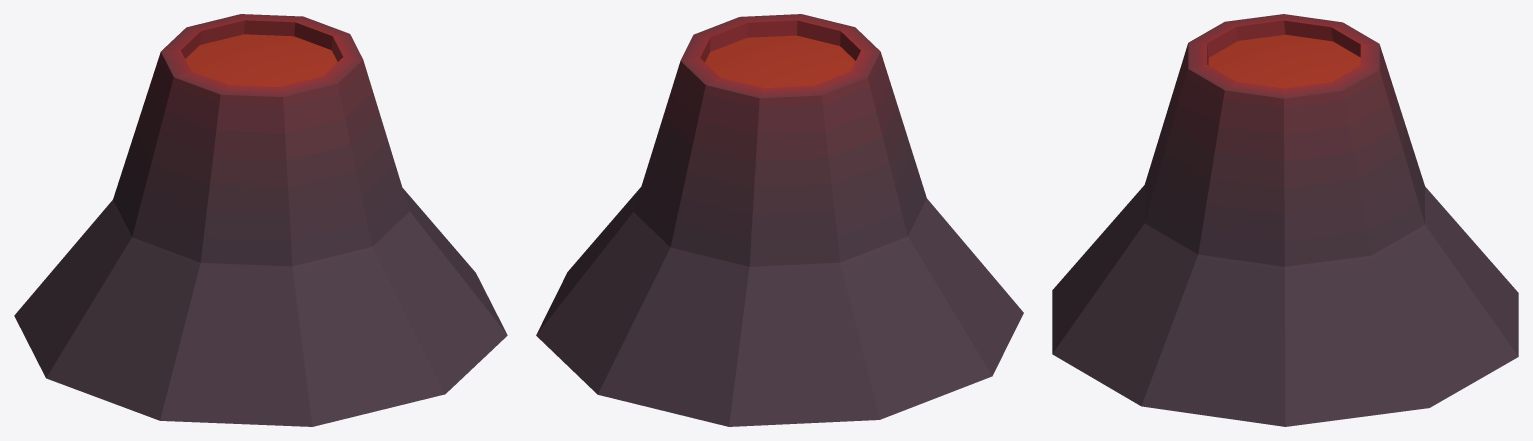
Rendered from volcan.FBX.
3 renders of one model, left to right at view 1: azimuth 30°, elevation 25°; view 2: azimuth 150°, elevation 25°; view 3: azimuth 270°, elevation 25°, orthographic.
Parts seen in each view (by area): view 1: lvl1_volcan_01; view 2: lvl1_volcan_01; view 3: lvl1_volcan_01.
Part boxes in pixels (left/top/right/bottom): lvl1_volcan_01: left=14, top=14, right=507, bottom=426; lvl1_volcan_01: left=536, top=14, right=1023, bottom=426; lvl1_volcan_01: left=1052, top=14, right=1518, bottom=426.
Size of the model in its own units: 0.5411 by 0.3298 by 0.5145.
